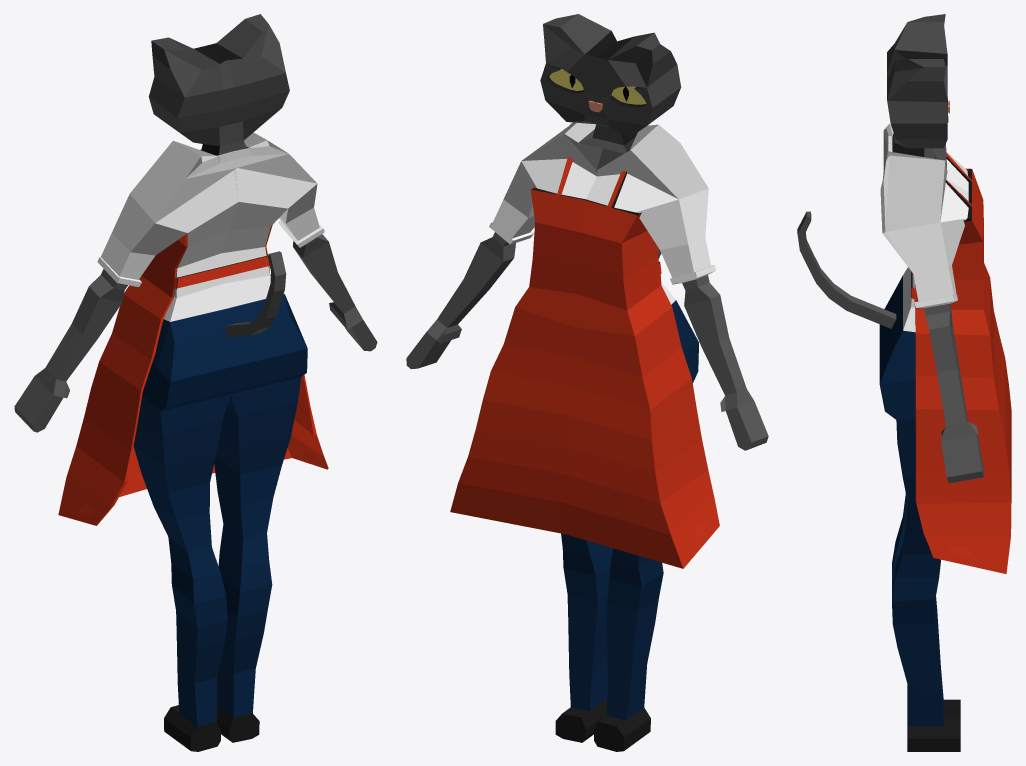
Rendered from CatClerk2.fbx.
3 views of the same model, side by side, from view 1: azimuth 30°, elevation 25°; view 2: azimuth 150°, elevation 25°; view 3: azimuth 270°, elevation 25° (orthographic).
Visible parts, largest first — view 1: Clerk; view 2: Clerk; view 3: Clerk.
Part boxes in pixels (x1,y1,x2,y2): Clerk: [14, 14, 377, 751]; Clerk: [406, 14, 768, 751]; Clerk: [797, 14, 1011, 751].
Bounding box in the file's own units: 588 × 1144 × 318.
Materials: 1 (1 with a texture image).
